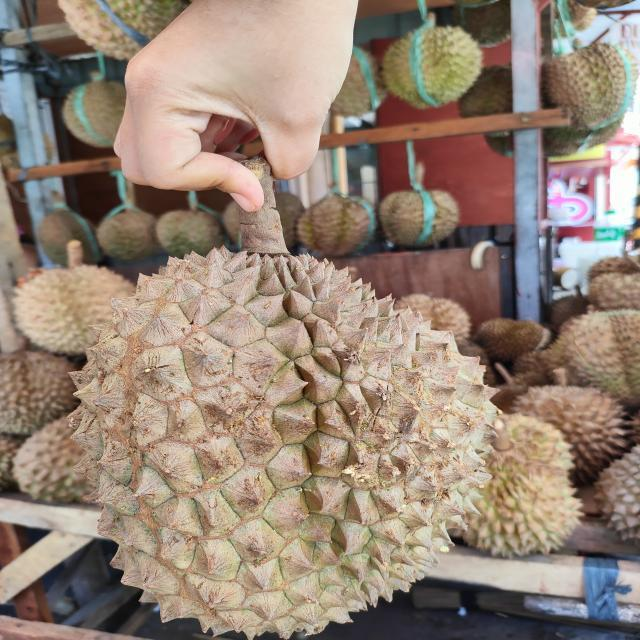mature: (68, 242, 502, 640)
